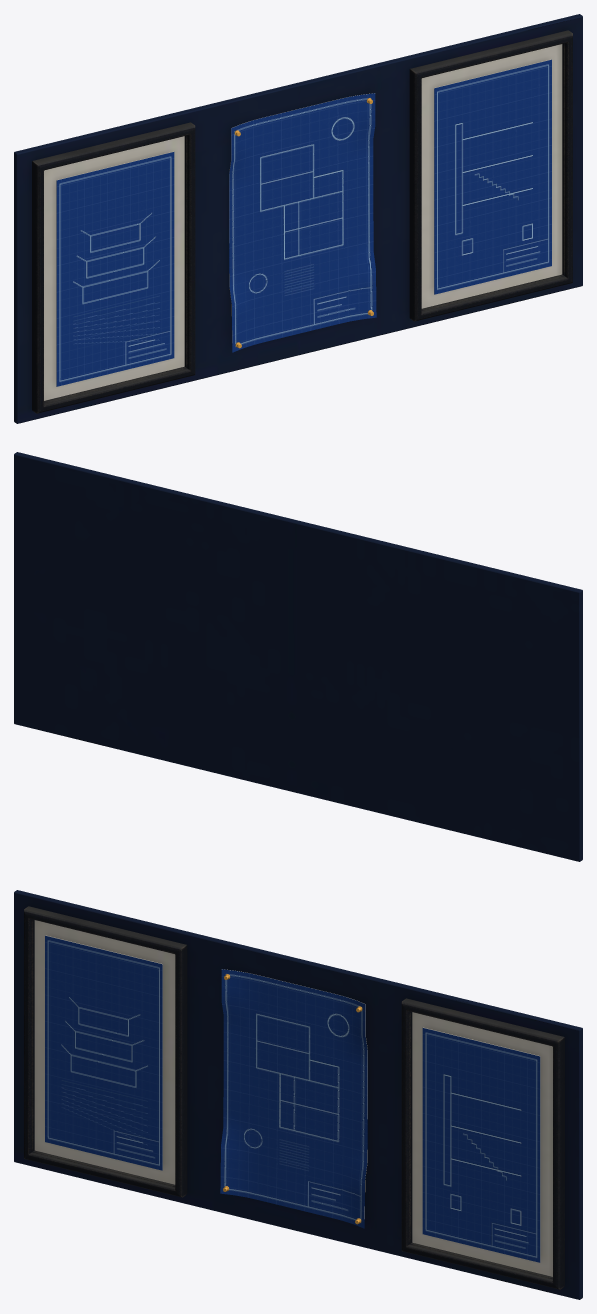
The picture shows the model from 3 angles, top to bottom: view 1: azimuth 30°, elevation 25°; view 2: azimuth 150°, elevation 25°; view 3: azimuth 330°, elevation 25°; orthographic projection.
Visible parts, largest first — view 1: studio-pinned-drawings; view 2: studio-pinned-drawings; view 3: studio-pinned-drawings.
Boxes of the visible parts, bbox=[...] form: studio-pinned-drawings: bbox=[14, 14, 582, 423]; studio-pinned-drawings: bbox=[14, 452, 582, 861]; studio-pinned-drawings: bbox=[14, 890, 582, 1299].
Size of the model in its own units: 1.14 by 0.52 by 0.0331.
Materials: 2 (2 with a texture image).
